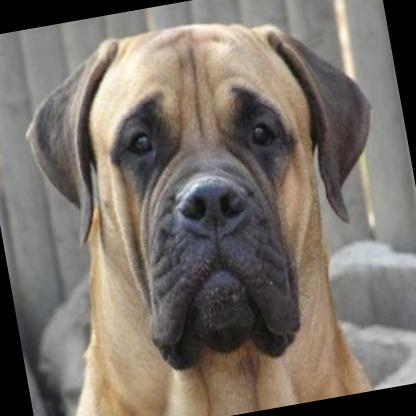bull_mastiff: (4, 0, 416, 416)
